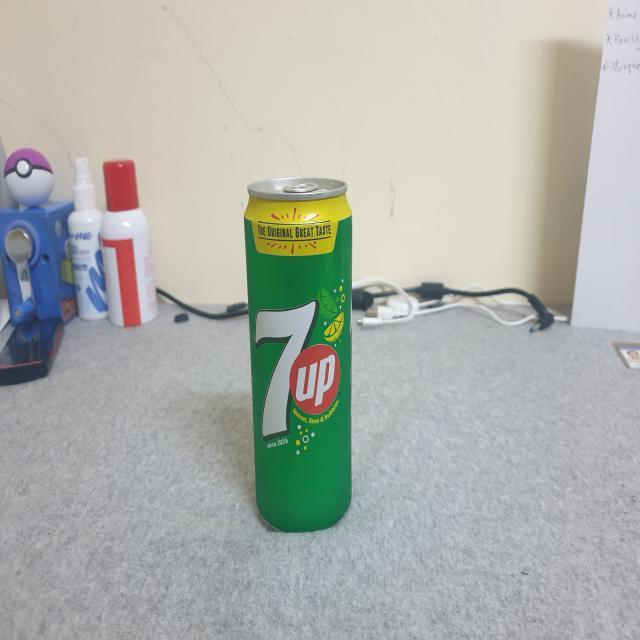can: (236, 144, 369, 550)
